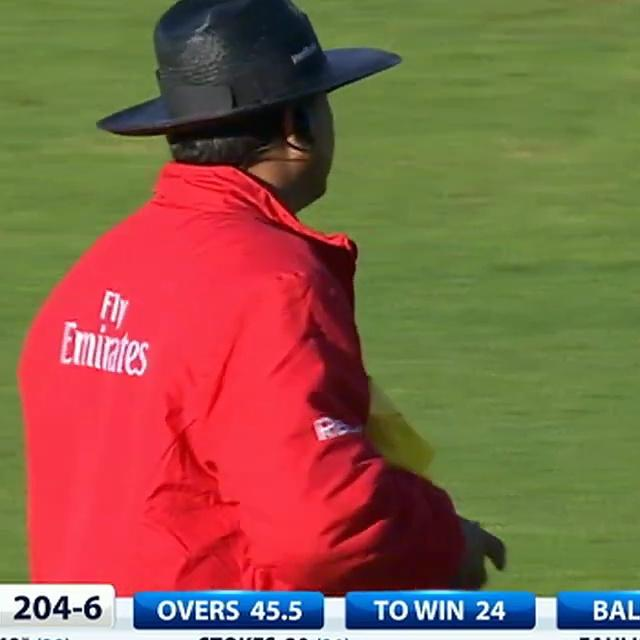umpire: (0, 0, 531, 593)
